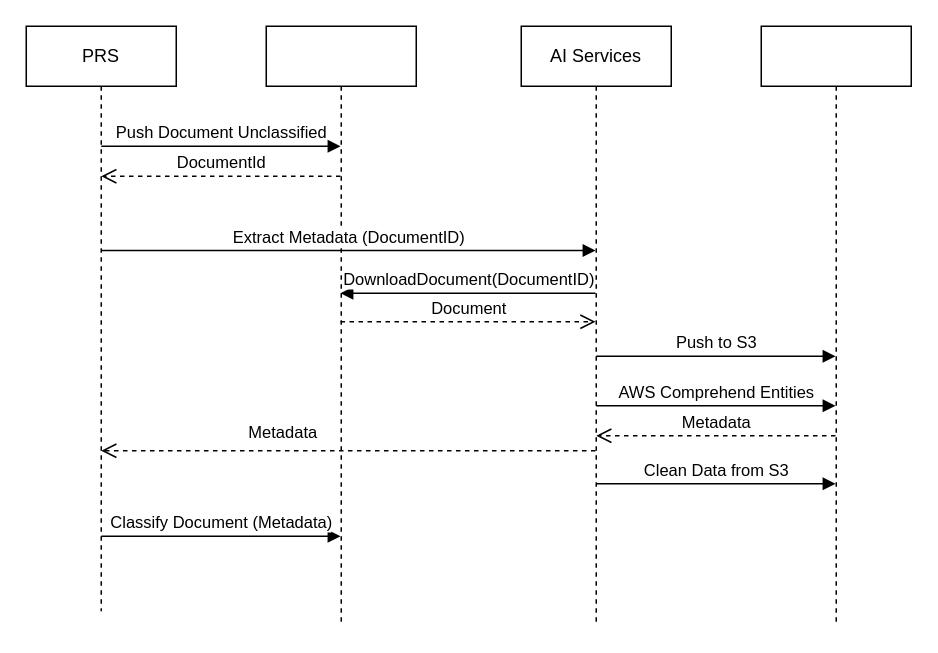
The diagram is 938 pixels wide and 653 high, and some of its shapes have lost their labels. The box of each missing label's shape, as (x1, y1, x2, y2) in pixels:
AWS: (760, 25, 911, 626)
Mobius: (265, 25, 416, 626)
